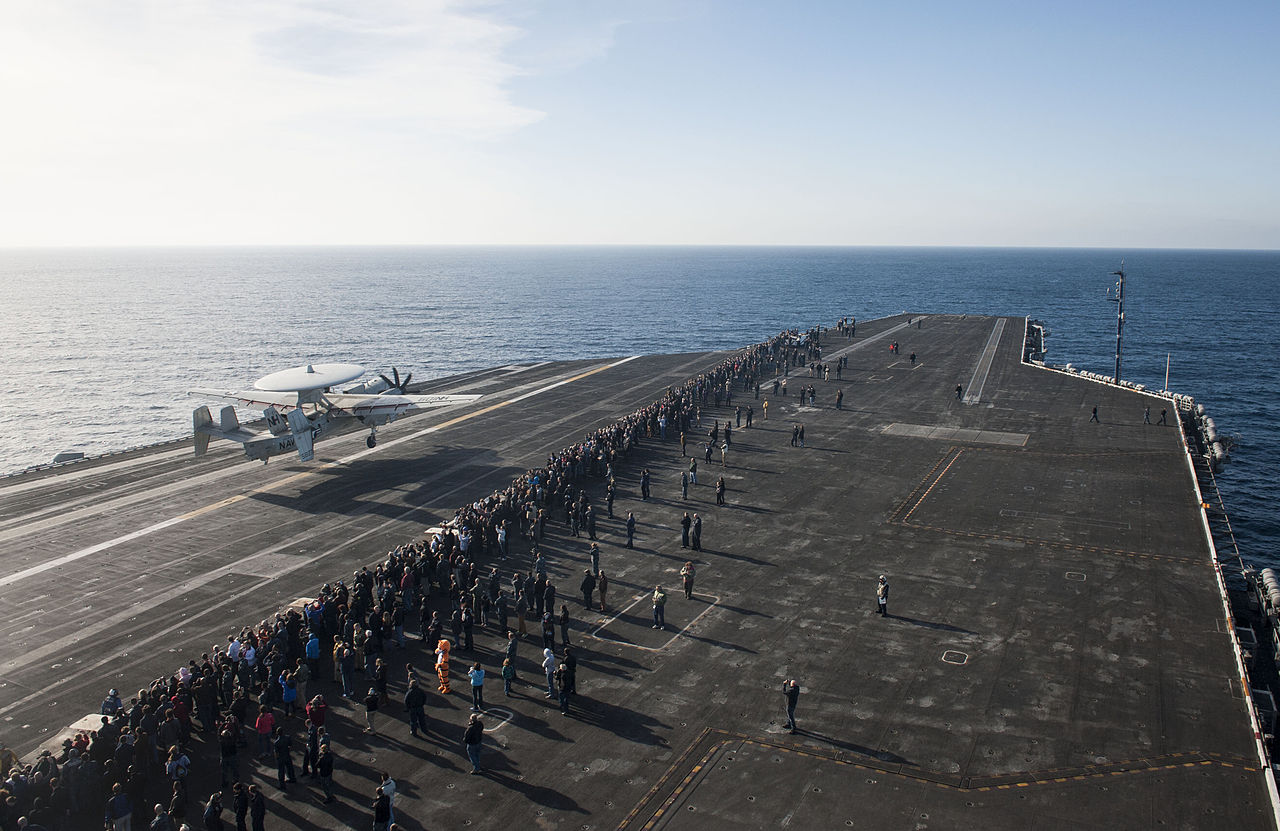E2: (185, 362, 484, 466)
